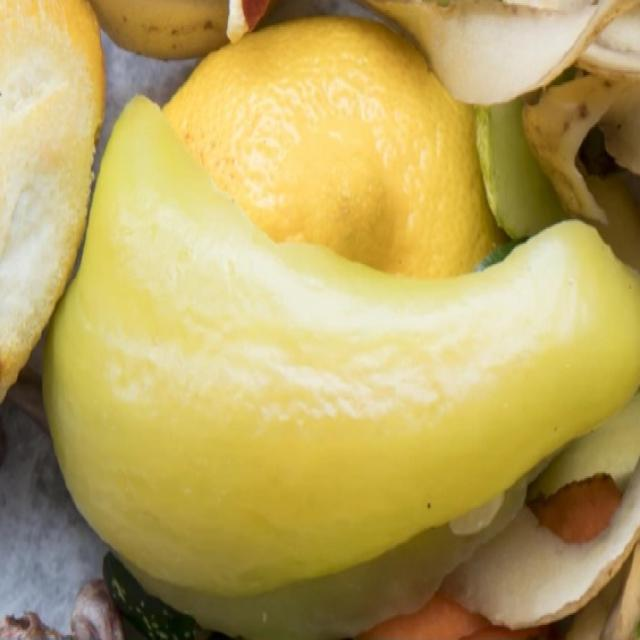food waste: (20, 0, 640, 610)
